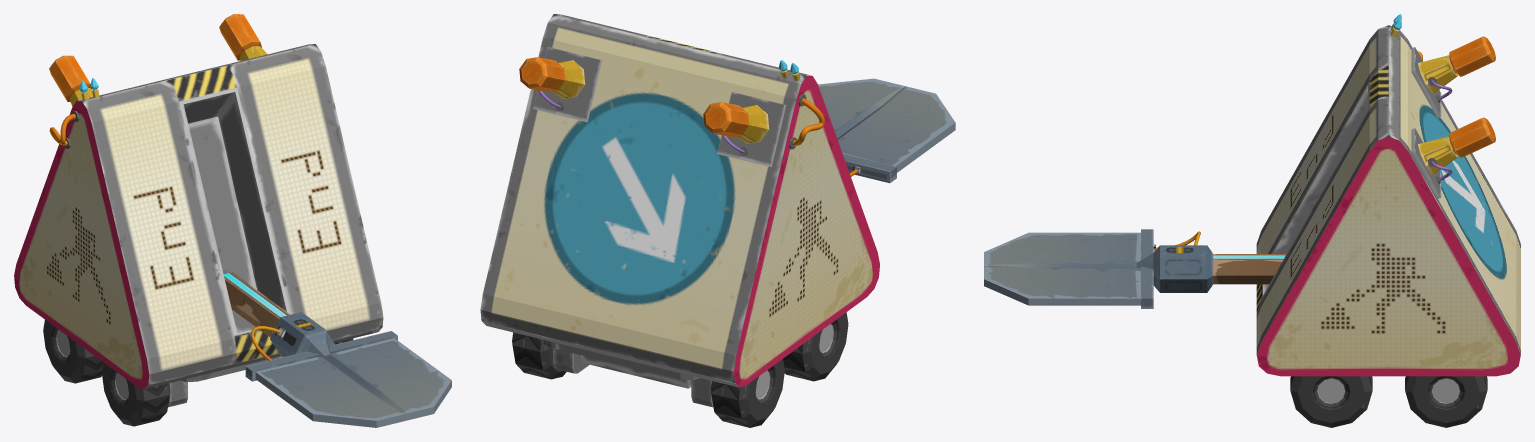
3 renders of one model, left to right at view 1: azimuth 30°, elevation 25°; view 2: azimuth 150°, elevation 25°; view 3: azimuth 270°, elevation 25°, orthographic. The views are drawn at different scales.
Parts seen in each view (by area): view 1: obj-mainbody, obj-wpn-shovel, obj-wheel-2, obj-wheel-3, obj-light-1, obj-light-2, obj-chassis; view 2: obj-mainbody, obj-wpn-shovel, obj-light-1, obj-light-2, obj-wheel-3, obj-chassis, obj-wheel-2, obj-wheel-1; view 3: obj-mainbody, obj-wpn-shovel, obj-wheel-1, obj-wheel-4, obj-light-2, obj-light-1.
Part boxes in pixels (left/top/right/bottom): obj-mainbody: left=14, top=44, right=383, bottom=389; obj-wpn-shovel: left=223, top=272, right=451, bottom=427; obj-wheel-2: left=102, top=363, right=170, bottom=426; obj-wheel-3: left=43, top=320, right=103, bottom=383; obj-light-1: left=219, top=14, right=267, bottom=60; obj-light-2: left=49, top=55, right=92, bottom=106; obj-chassis: left=168, top=356, right=282, bottom=407; obj-mainbody: left=480, top=14, right=879, bottom=387; obj-wpn-shovel: left=818, top=78, right=955, bottom=183; obj-light-1: left=519, top=47, right=602, bottom=122; obj-light-2: left=703, top=92, right=786, bottom=166; obj-wheel-3: left=710, top=359, right=784, bottom=427; obj-chassis: left=543, top=340, right=713, bottom=407; obj-wheel-2: left=783, top=312, right=848, bottom=381; obj-wheel-1: left=512, top=332, right=566, bottom=379; obj-mainbody: left=1256, top=14, right=1520, bottom=376; obj-wpn-shovel: left=984, top=229, right=1286, bottom=308; obj-wheel-1: left=1405, top=376, right=1487, bottom=427; obj-wheel-4: left=1290, top=376, right=1372, bottom=427; obj-light-2: left=1411, top=36, right=1495, bottom=118; obj-light-1: left=1411, top=117, right=1495, bottom=199.
Size of the model in its own units: 216 by 260 by 406.
5 materials, 5 textured.
